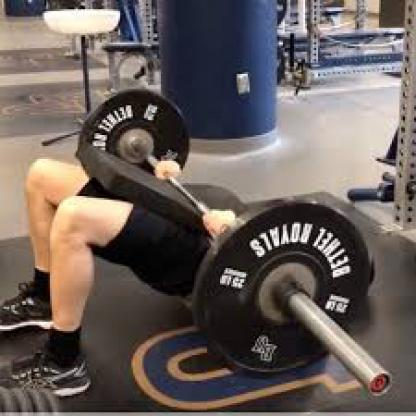Barbell: (188, 193, 375, 384)
